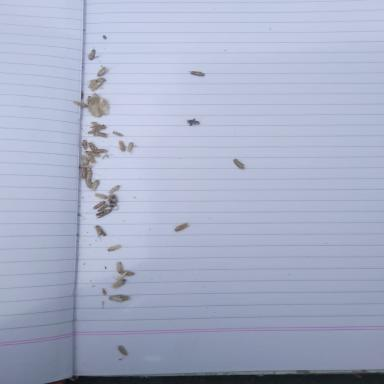pbw: (86, 45, 100, 60), (108, 294, 132, 302), (95, 208, 112, 219), (94, 225, 106, 240), (110, 279, 126, 290), (174, 222, 189, 232), (115, 270, 128, 281), (233, 158, 245, 169), (91, 121, 107, 129), (84, 150, 100, 158), (87, 126, 102, 134), (80, 153, 90, 165), (106, 244, 123, 251), (94, 192, 108, 200), (72, 100, 88, 107), (97, 66, 107, 77), (117, 345, 128, 355), (127, 142, 136, 154), (117, 140, 126, 152), (107, 185, 120, 193), (92, 201, 105, 209), (86, 154, 96, 164), (84, 178, 92, 190), (92, 132, 108, 138), (91, 179, 99, 191), (88, 142, 98, 151), (97, 203, 108, 211), (116, 262, 123, 274), (119, 270, 133, 276), (188, 71, 204, 76), (81, 139, 87, 150), (112, 130, 123, 136), (86, 169, 92, 180), (81, 168, 87, 178), (92, 148, 106, 152), (79, 164, 92, 168)
